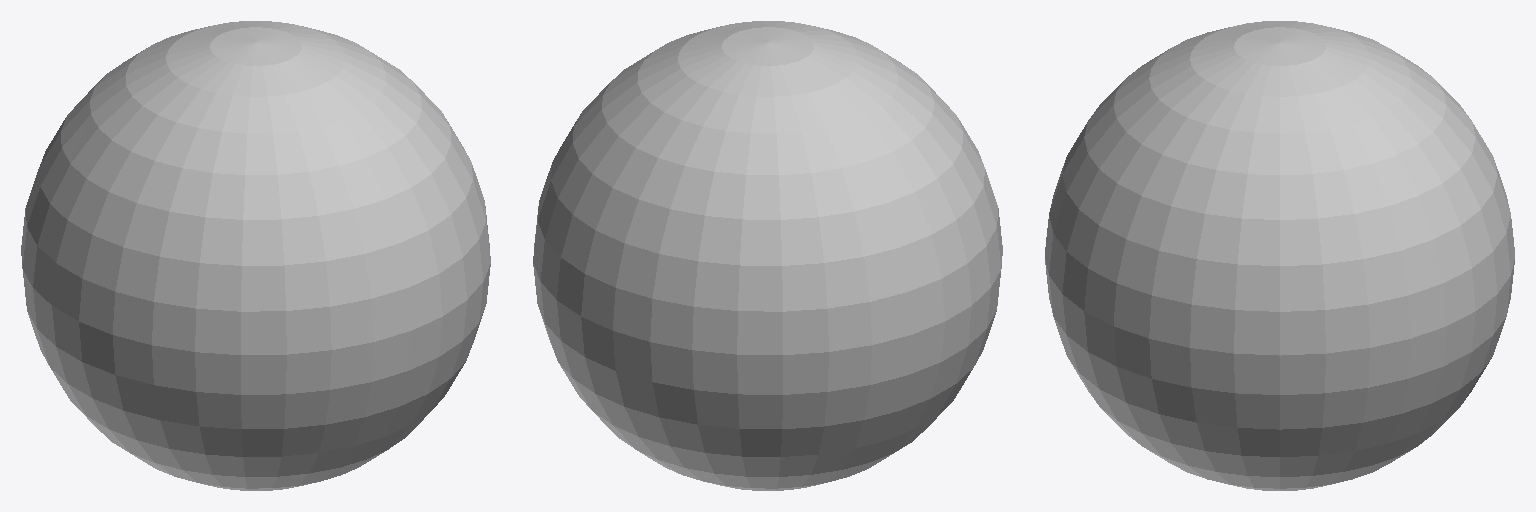
The model's file is Glass_sphere.obj.
3 views of the same model, side by side, from view 1: azimuth 30°, elevation 25°; view 2: azimuth 150°, elevation 25°; view 3: azimuth 270°, elevation 25° (orthographic).
Parts seen in each view (by area): view 1: Sphere.001_Sphere.007; view 2: Sphere.001_Sphere.007; view 3: Sphere.001_Sphere.007.
Part boxes in pixels (left/top/right/bottom): Sphere.001_Sphere.007: left=21, top=21, right=490, bottom=490; Sphere.001_Sphere.007: left=533, top=21, right=1002, bottom=490; Sphere.001_Sphere.007: left=1045, top=21, right=1514, bottom=490.
Bounding box in the file's own units: 1.4 × 1.4 × 1.4.